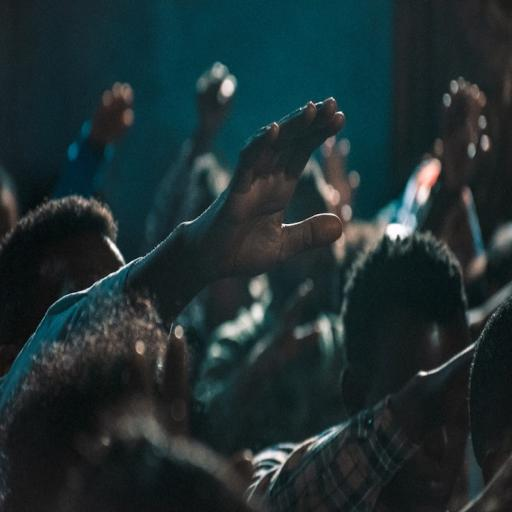face: (380, 389, 468, 511)
